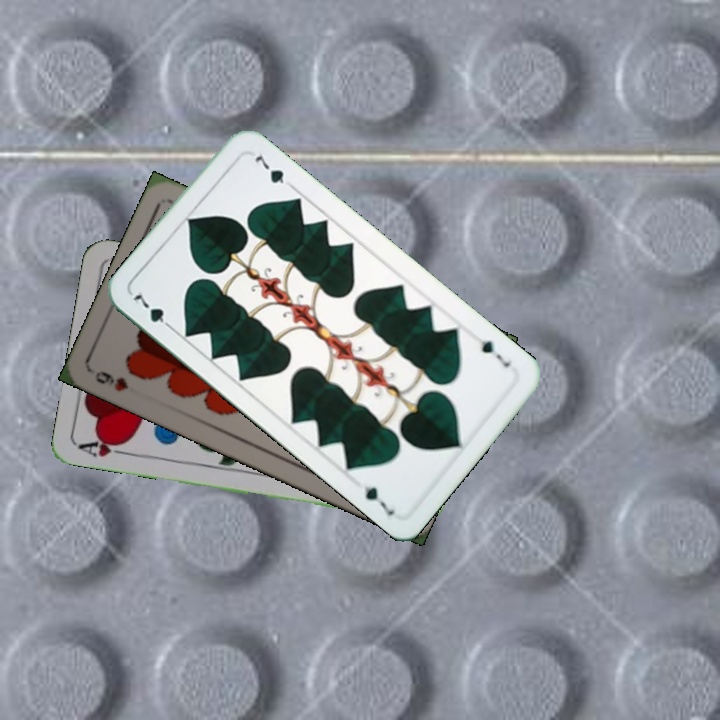G7: (129, 290, 177, 334), (472, 331, 514, 371)
H9: (90, 366, 131, 395)
HA: (76, 433, 135, 460)
